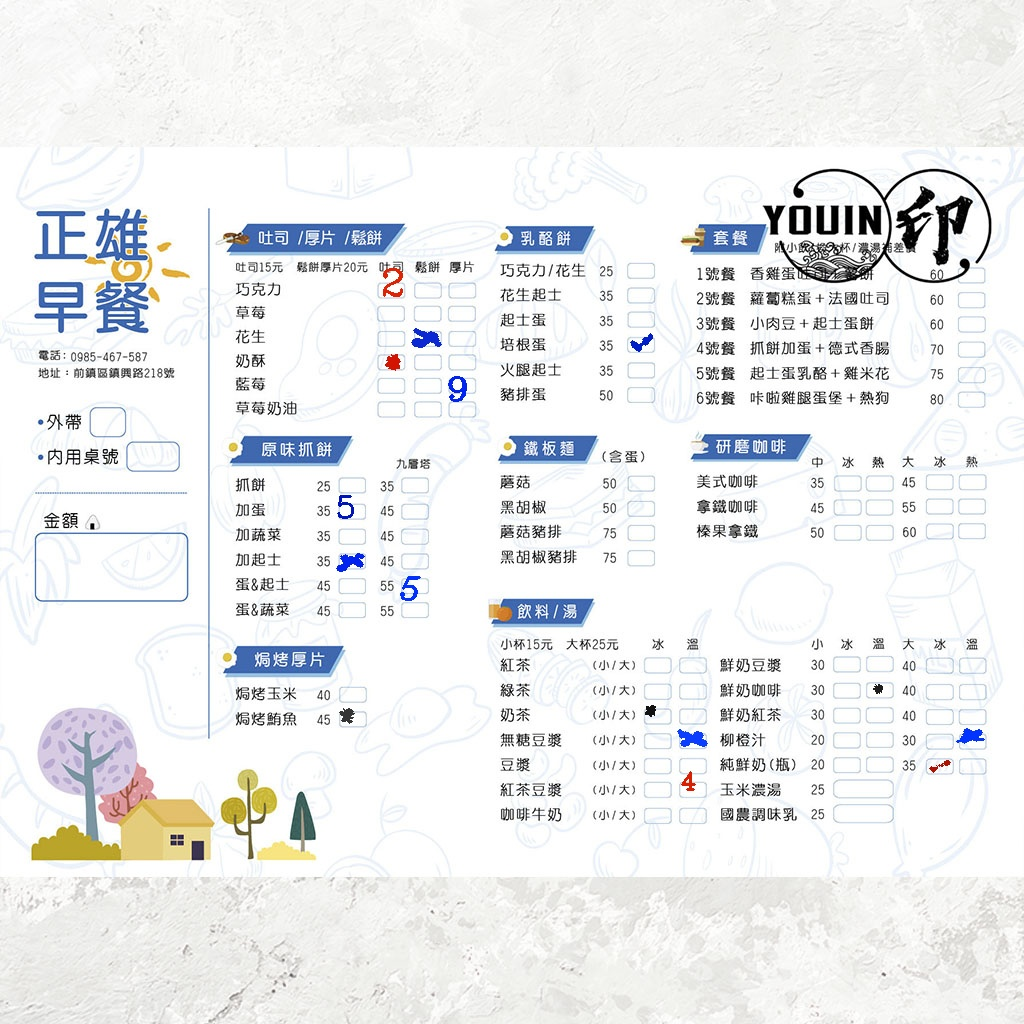marked_circle: (378, 353, 404, 367), (869, 682, 895, 696), (644, 707, 670, 721), (338, 711, 364, 725)
marked_number_2: (377, 282, 403, 296)
marked_number_4: (679, 780, 705, 794)
marked_number_5: (400, 579, 426, 593), (338, 503, 364, 517)
marked_number_9: (448, 378, 474, 392)
marked_tick: (925, 759, 951, 773), (627, 337, 653, 351)
marked_x: (957, 732, 983, 746), (337, 554, 363, 568), (414, 330, 440, 344), (679, 732, 705, 746)
